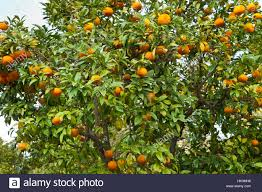orange: (135, 66, 149, 78), (144, 49, 155, 62)
